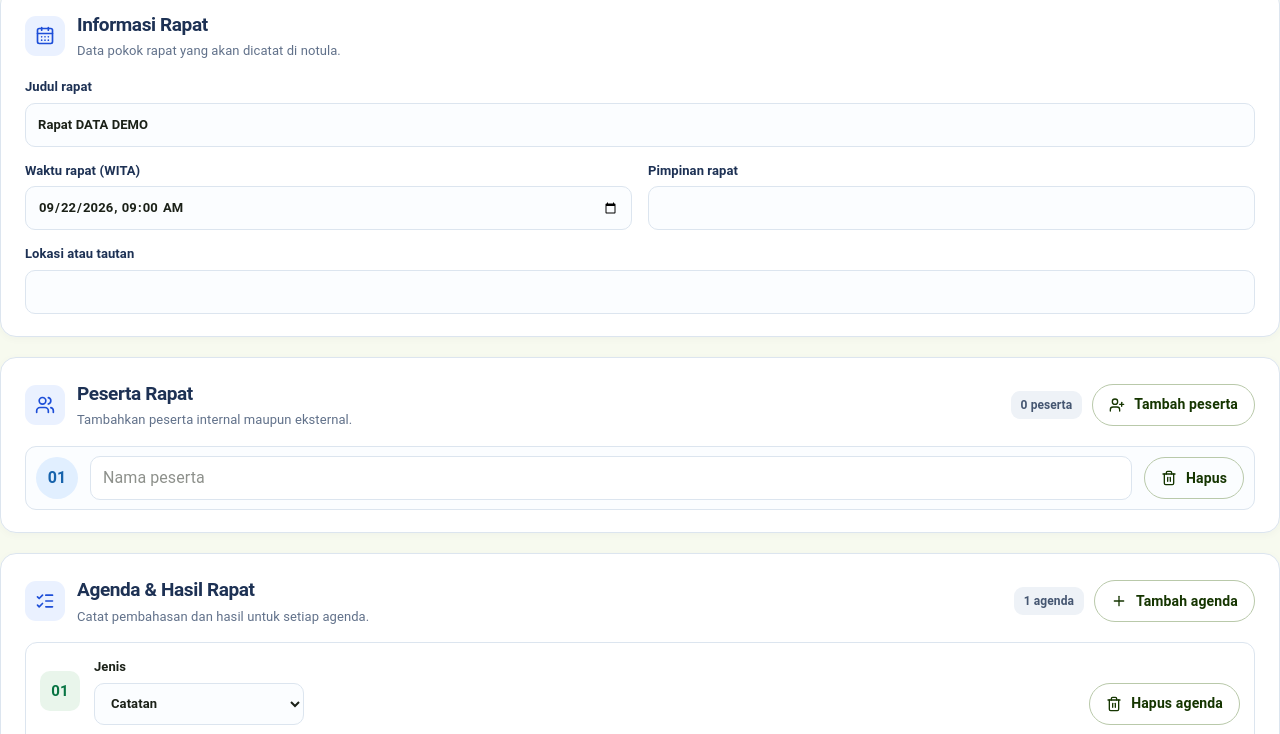
Test: penyimpanan draf notula › menampilkan WITA, tetap mempertahankan input saat gagal, lalu mengonfirmasi simpan dari server
The width and height of the screenshot is (1280, 734).
Check: the field labelled "Waktu rapat (WITA)" holds "2026-09-22T09:00", box x1=25 y1=186 x2=632 y2=230
Replace the text in the field labelled "Judul rapat" with "Rapat revisi DATA DEMO". click: (640, 125)
box: x1=25 y1=103 x2=1255 y2=147
(page scrolled)
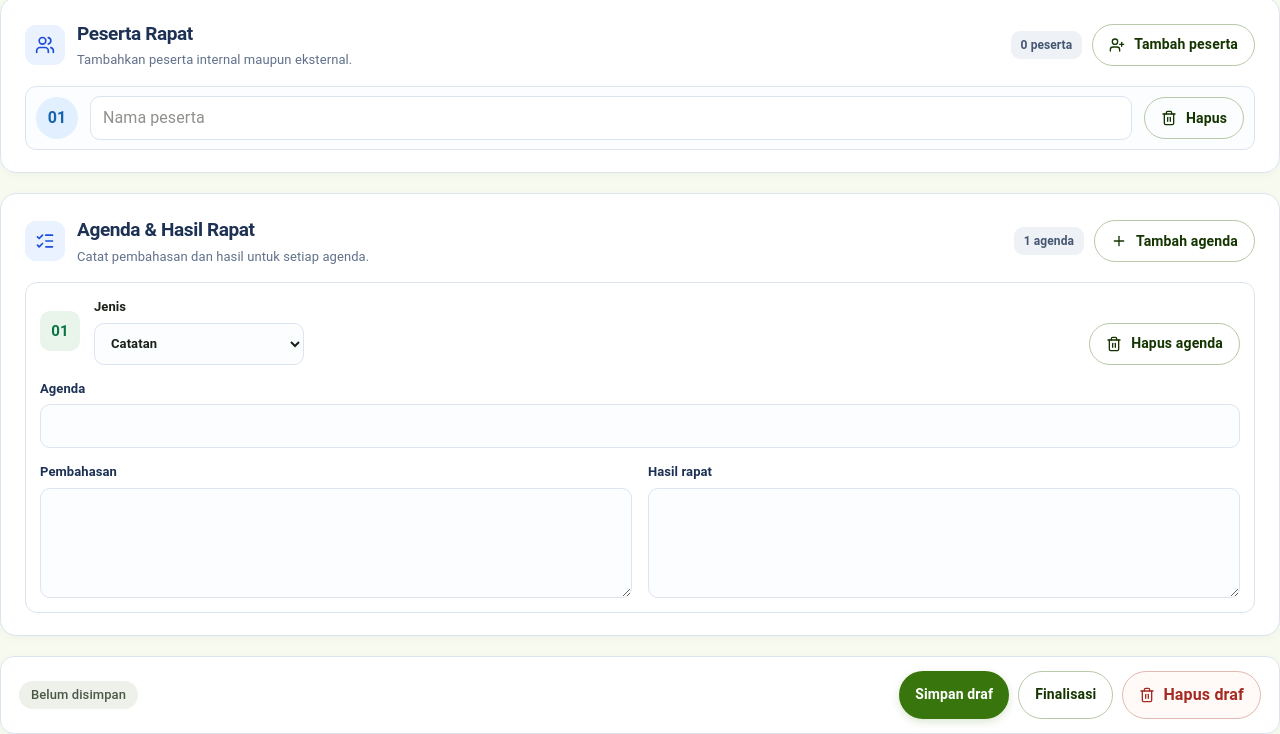
Check: the text "Belum disimpan" is shown, box x1=19 y1=681 x2=138 y2=709
Click the button "Simpan draf". click: (954, 695)
box: x1=899 y1=671 x2=1009 y2=719
(page scrolled)
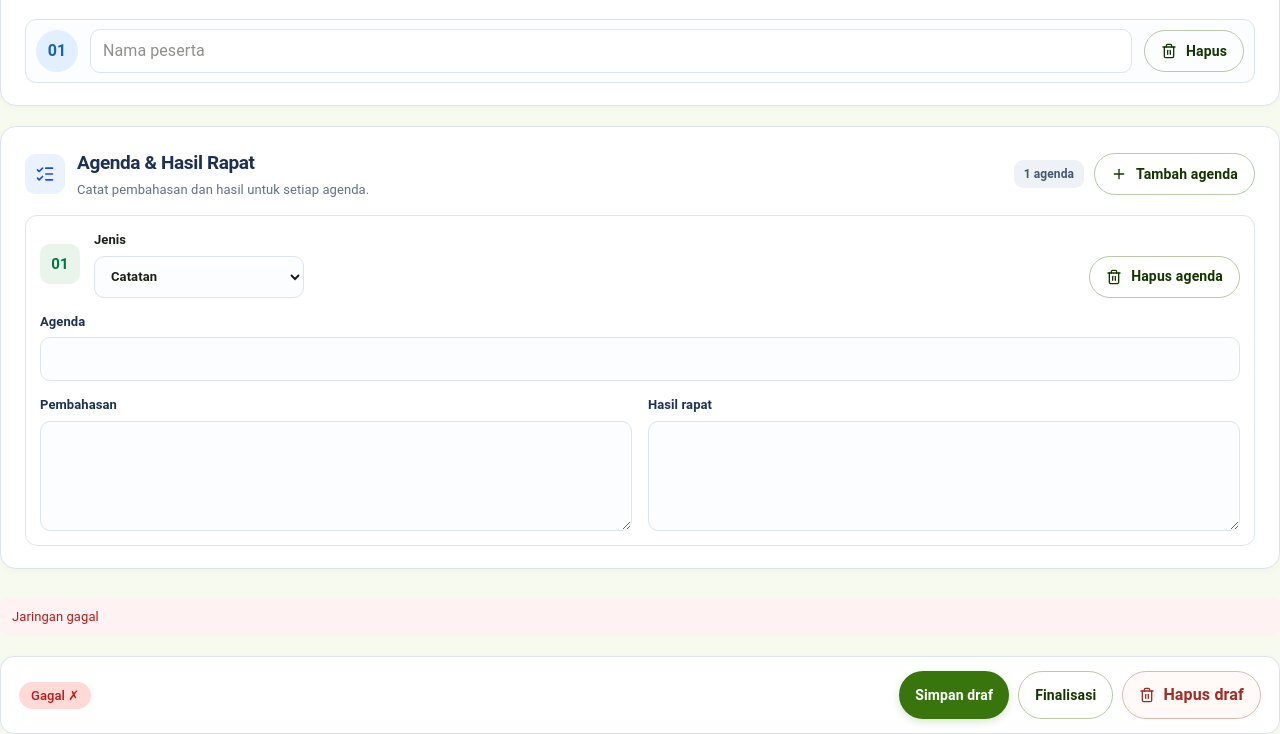
Check: the text "Gagal ✗" is shown, box x1=19 y1=682 x2=91 y2=709
Check: the message reads "Jaringan gagal", box x1=12 y1=609 x2=99 y2=624
Click the button "Simpan draf". click: (954, 695)
box: x1=899 y1=671 x2=1009 y2=719
(page scrolled)
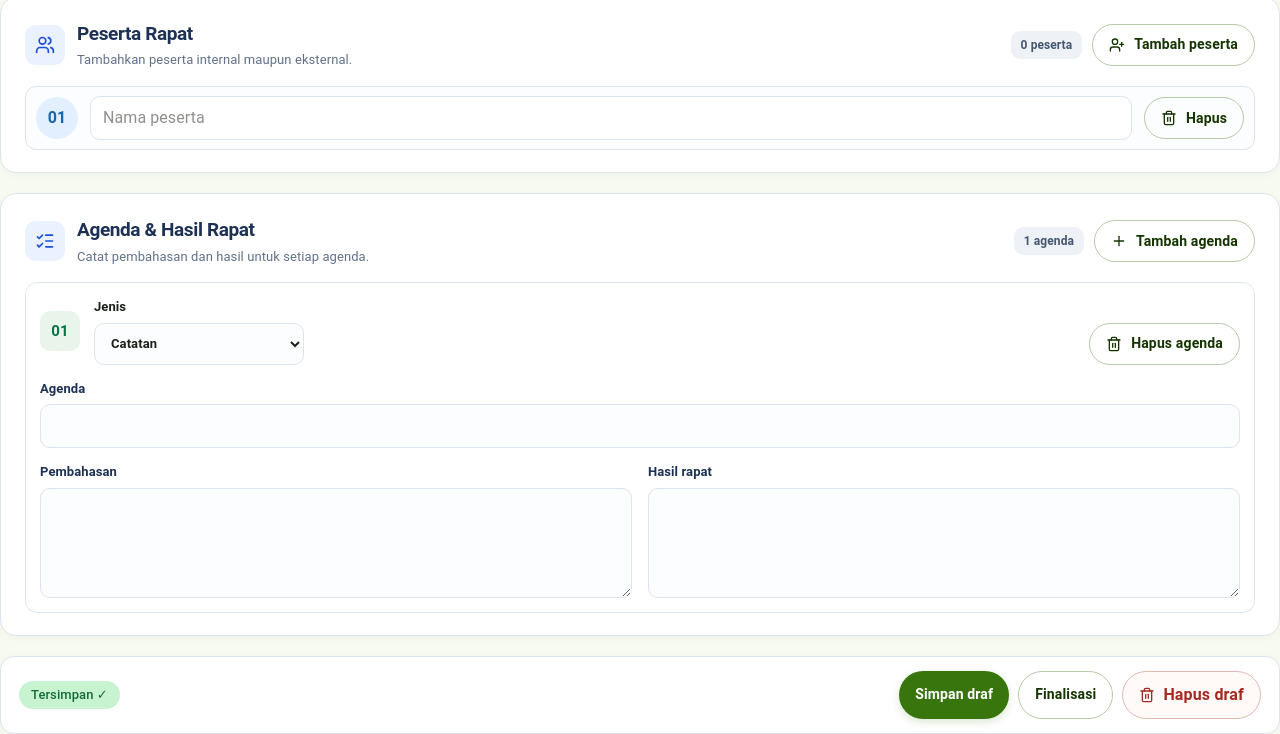
Check: the text "Tersimpan ✓" is shown, box x1=19 y1=681 x2=120 y2=709
